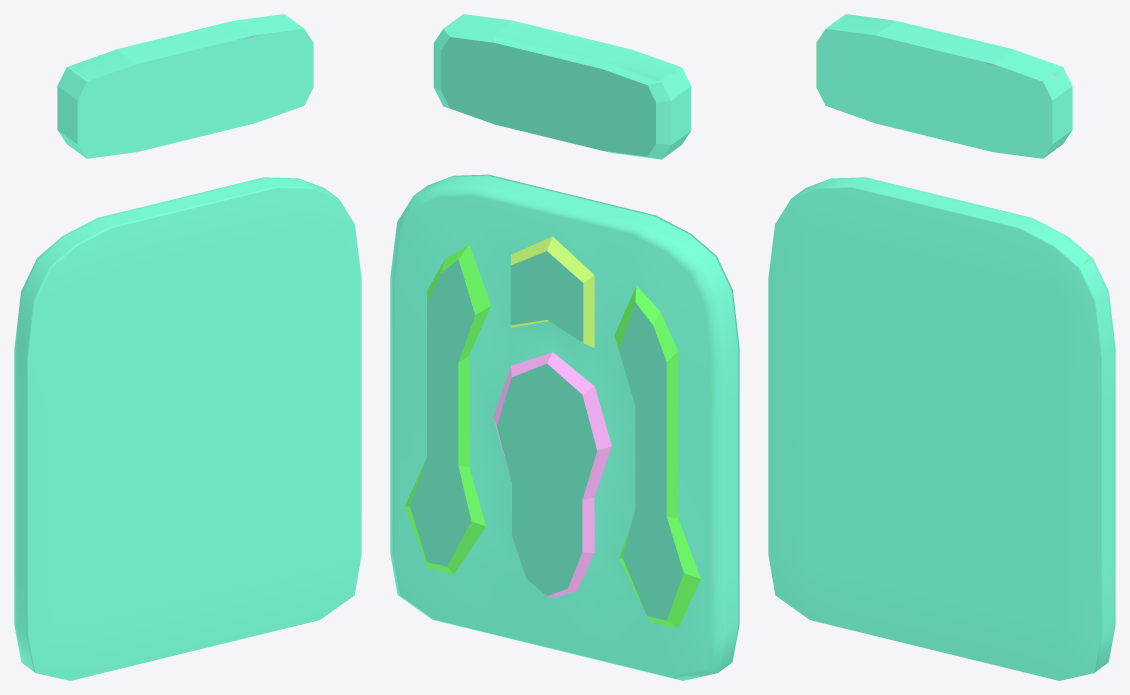
Rendered from inkubator.glb.
The picture shows the model from 3 angles, left to right: view 1: azimuth 30°, elevation 25°; view 2: azimuth 150°, elevation 25°; view 3: azimuth 330°, elevation 25°; orthographic projection.
Visible parts, largest first — view 1: Cube; view 2: Cube; view 3: Cube.
Boxes of the visible parts, <box> form: Cube: <box>14,14,361,680</box>; Cube: <box>390,14,739,680</box>; Cube: <box>768,14,1115,680</box>.
Size of the model in its own units: 2 by 3.45 by 0.2671.
Materials: 1 (1 with a texture image).
